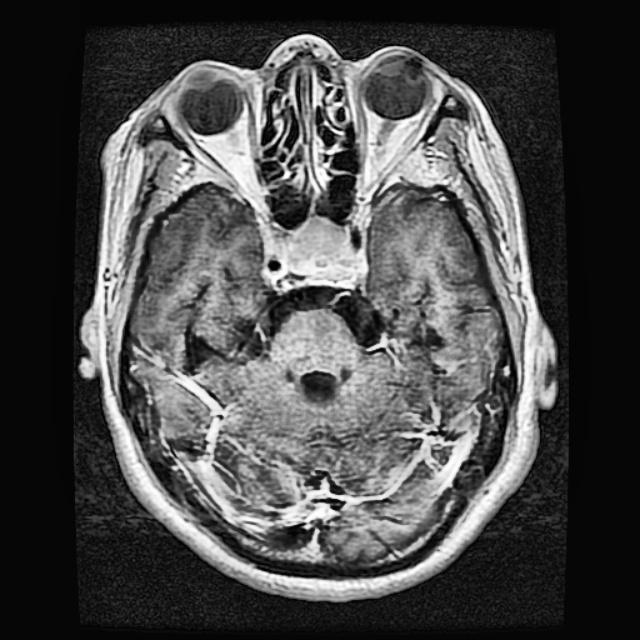Pituitary: (270, 218, 363, 280)
